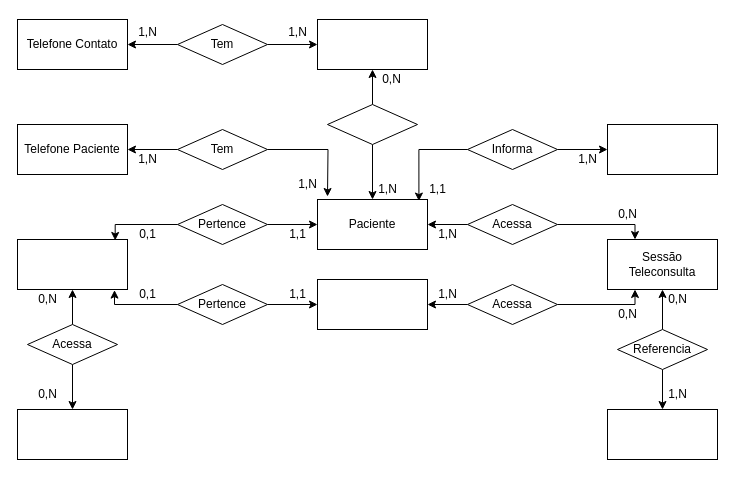
Image size: 735x477. Some labels were removed from this diagram. The centre of each missing label's shape, as x and y in pixels:
Contato: pixel 372 44
Email: pixel 662 149
FAQ: pixel 72 434
Lembrete: pixel 662 434
Possui: pixel 372 124
Profissional: pixel 372 304
Usuário: pixel 72 264
